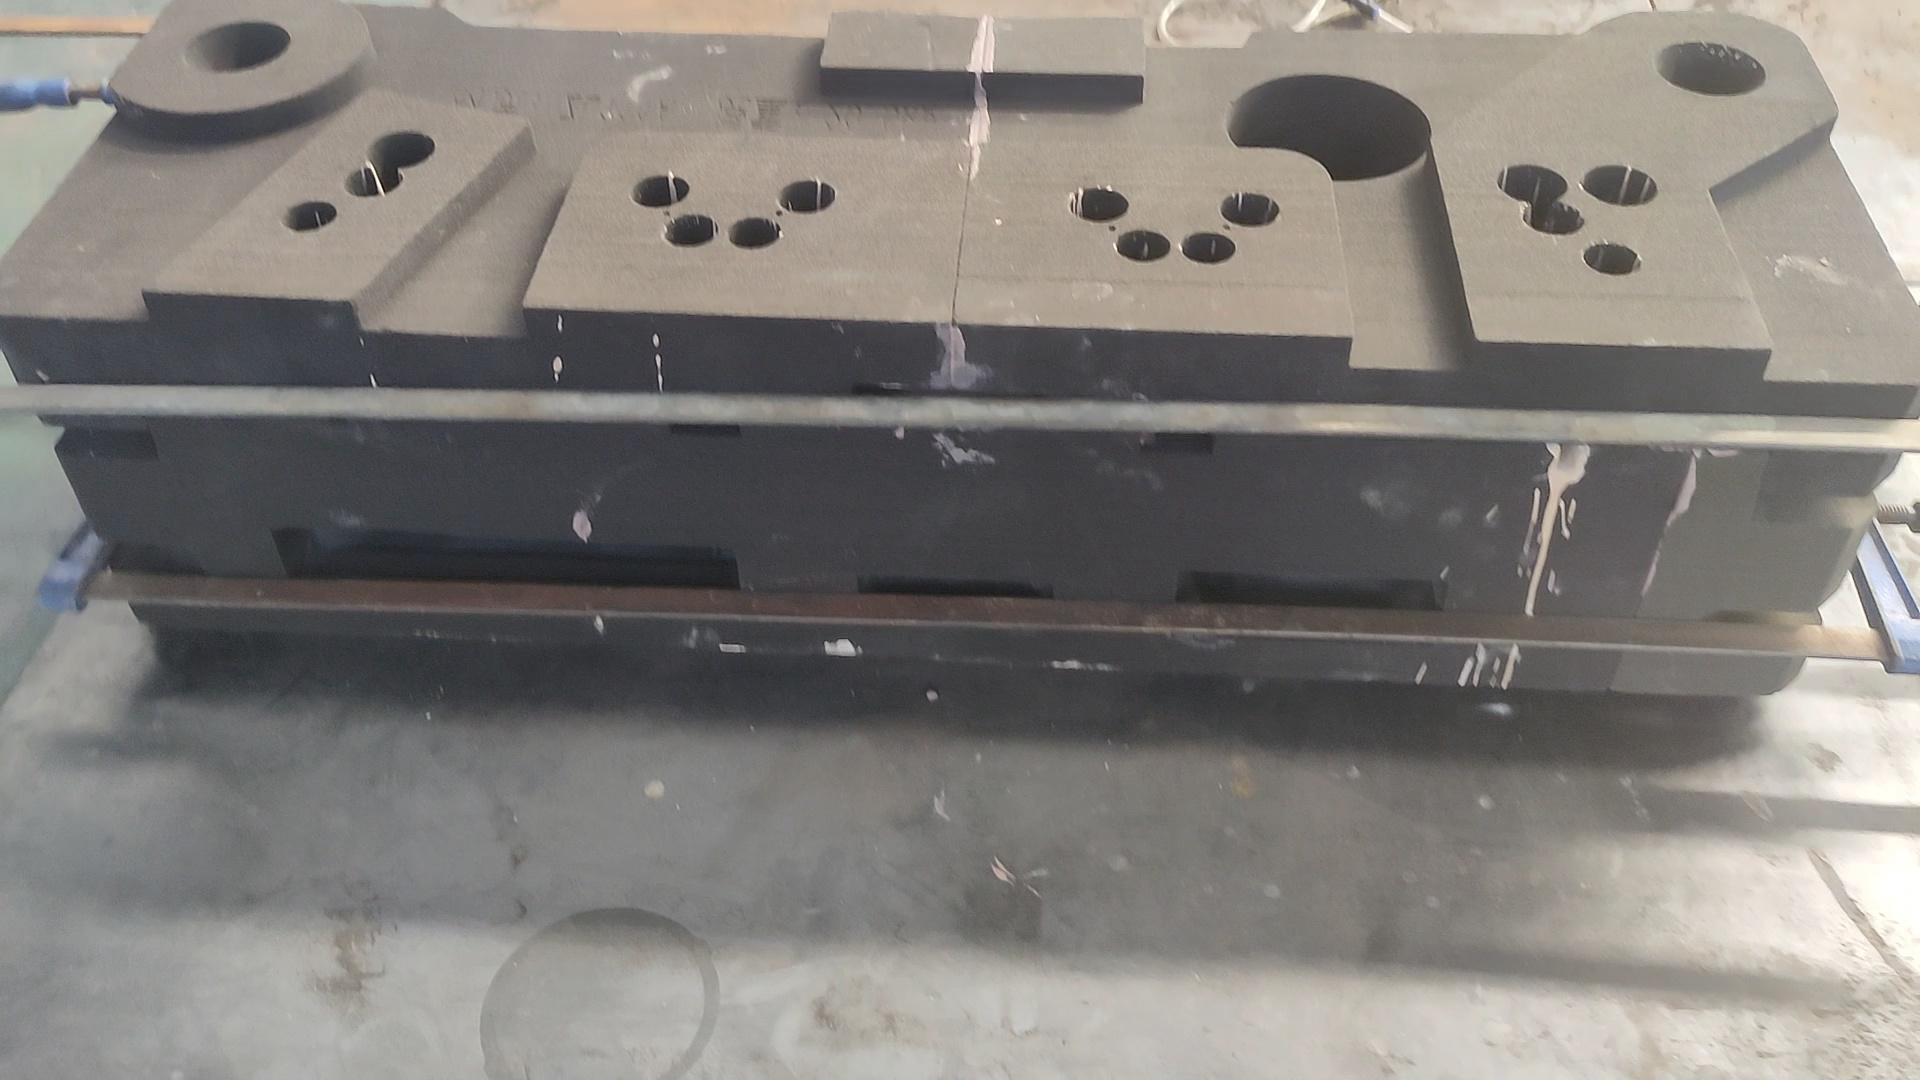pouring hole: (1652, 41, 1768, 98), (181, 18, 291, 74)
